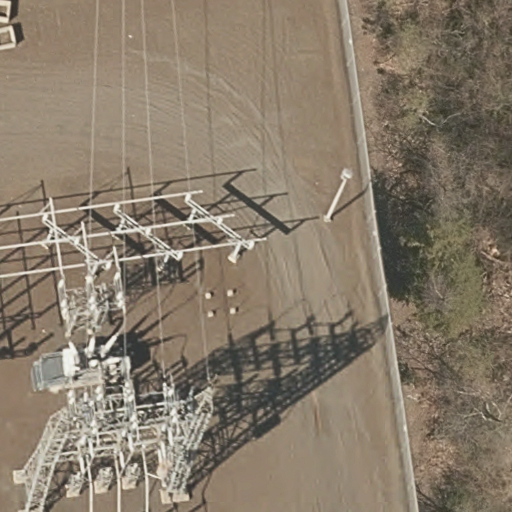TT: (8, 176, 259, 512)
